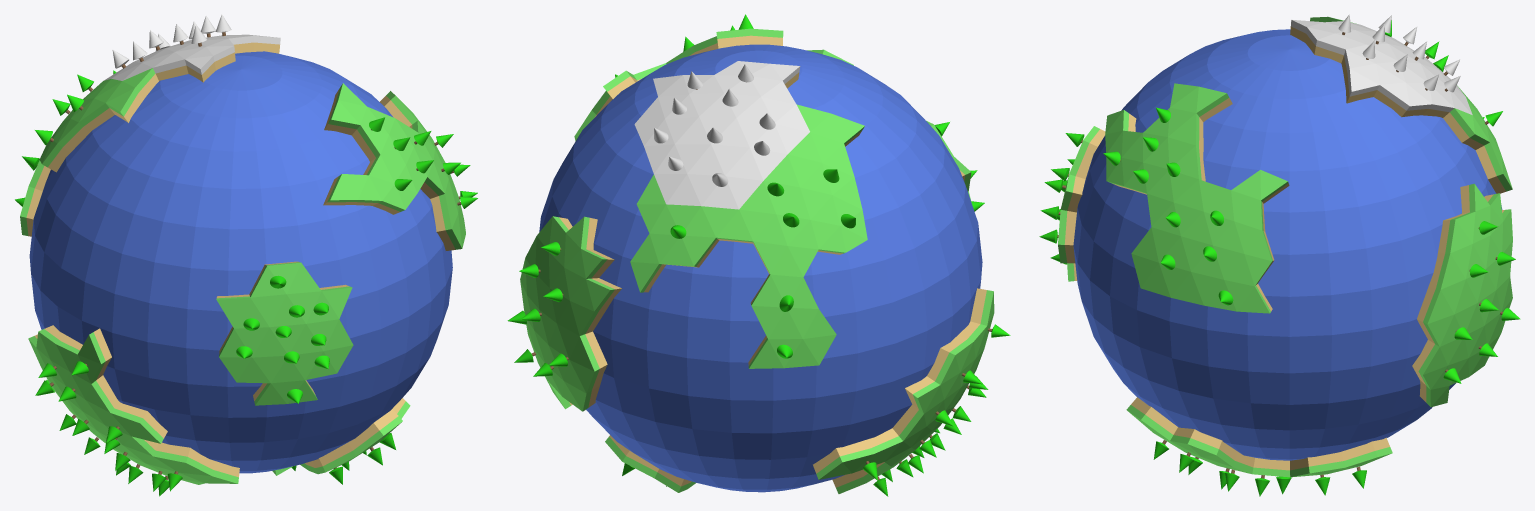
The model's file is world2.glb.
3 views of the same model, side by side, from view 1: azimuth 30°, elevation 25°; view 2: azimuth 150°, elevation 25°; view 3: azimuth 270°, elevation 25° (orthographic). The views are drawn at different scales.
Parts seen in each view (by area): view 1: Icosphere; view 2: Icosphere; view 3: Icosphere.
Boxes of the visible parts, x1=… form: Icosphere: x1=20, y1=34, x2=465, y2=484; Icosphere: x1=520, y1=28, x2=994, y2=493; Icosphere: x1=1058, y1=16, x2=1512, y2=477.
Size of the model in its own units: 11.08 by 11.3 by 11.03.
